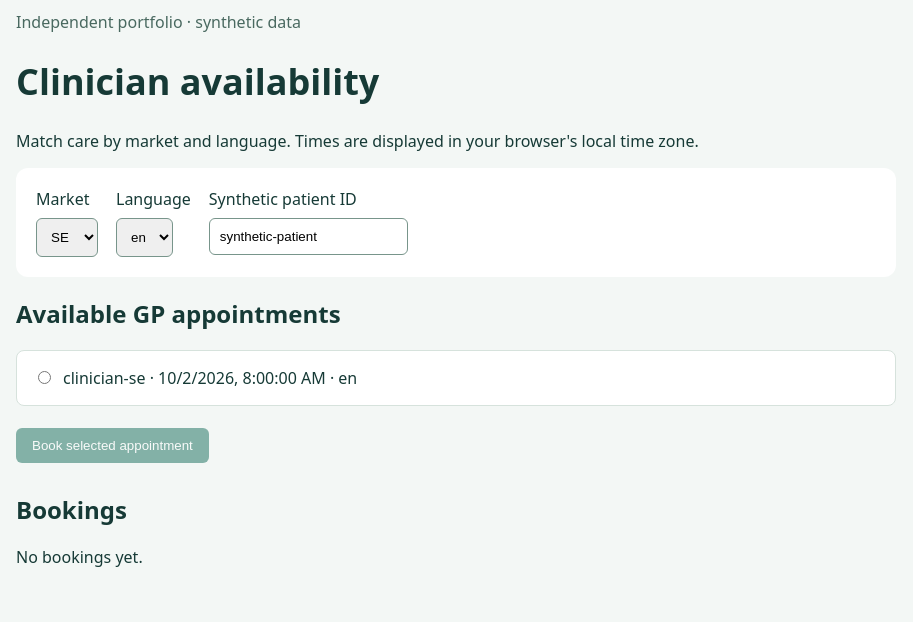
Test: shows server conflict without removing the form
Click the radio button at x=44, y=378, box [38,371,51,384]
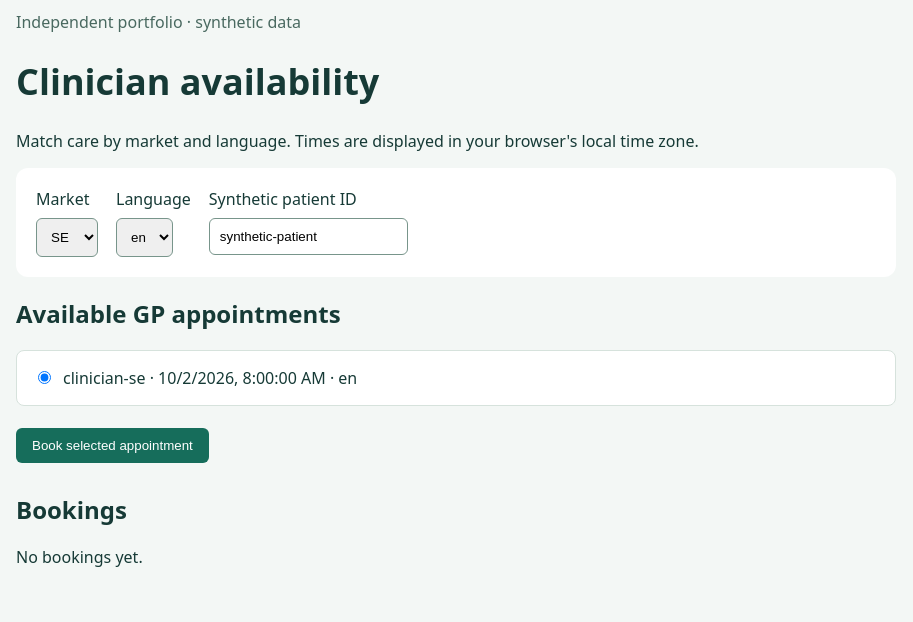
Click the button "Book selected appointment" at x=112, y=446, box [16,428,209,463]
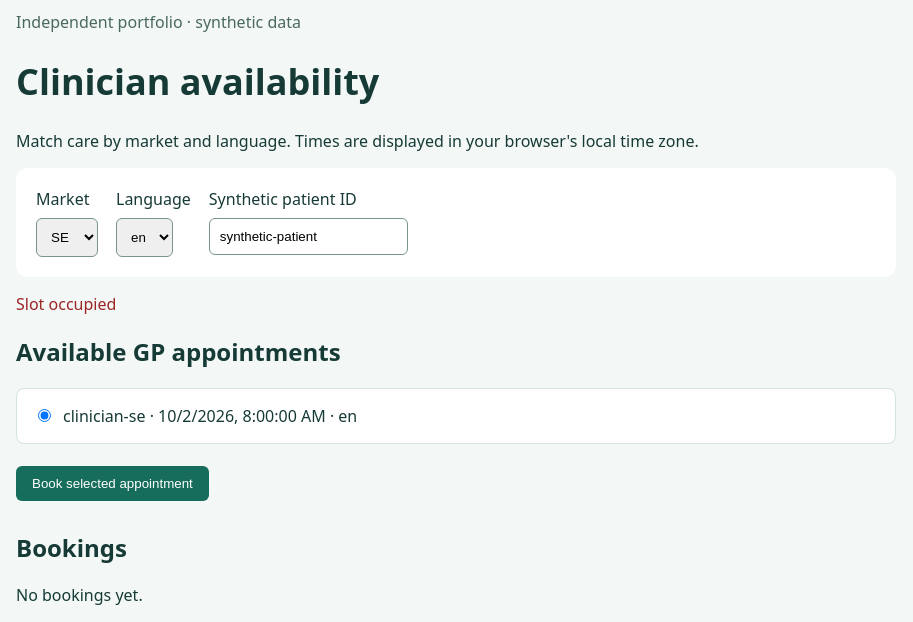
Expected: the message reads "Slot occupied", [16,293,116,315]
